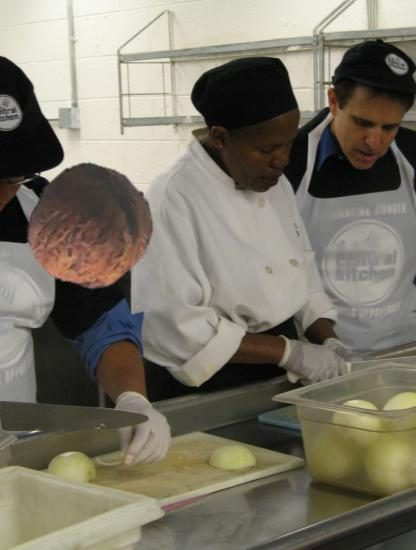Walnut: (26, 163, 153, 290)
